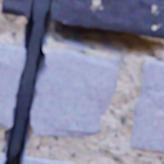brick: (130, 58, 163, 151)
broken_brick: (31, 48, 119, 136), (50, 0, 163, 37), (0, 41, 24, 127), (2, 0, 32, 16), (23, 156, 74, 163), (0, 154, 4, 163)
crack: (1, 0, 163, 163)
